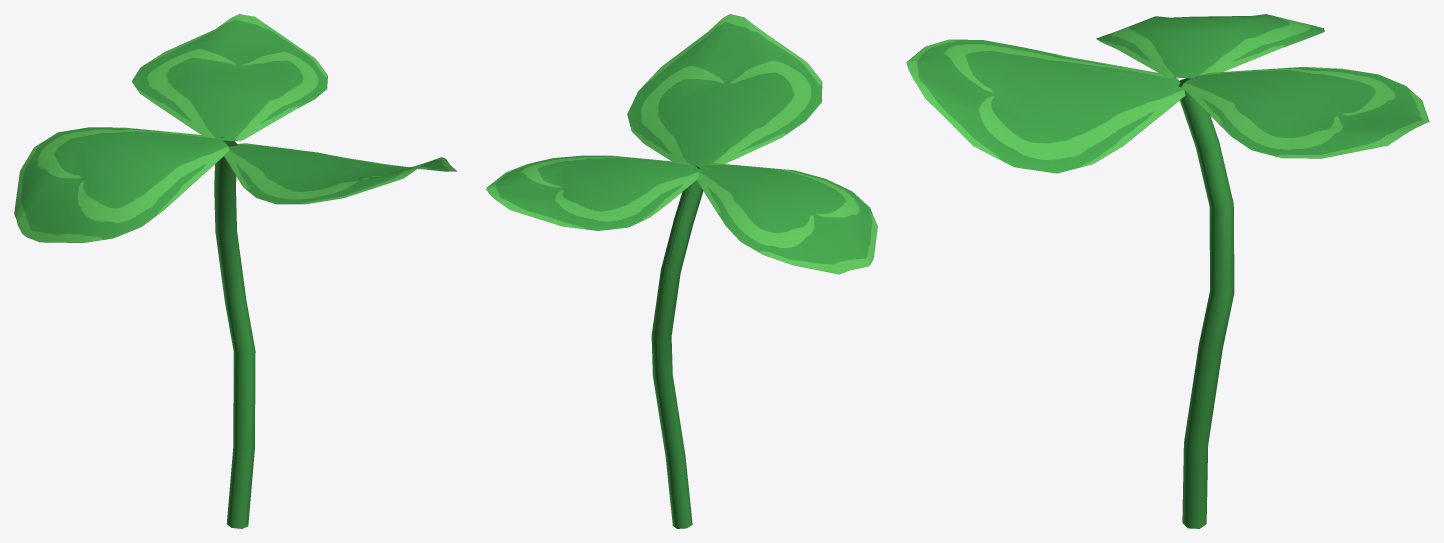
The model's file is SM_Trefle3.fbx.
3 views of the same model, side by side, from view 1: azimuth 30°, elevation 25°; view 2: azimuth 150°, elevation 25°; view 3: azimuth 270°, elevation 25° (orthographic). The views are drawn at different scales.
Parts seen in each view (by area): view 1: Trefle_Tige_00; view 2: Trefle_Tige_00; view 3: Trefle_Tige_00.
Part boxes in pixels (x1=…): Trefle_Tige_00: x1=14, y1=14, x2=457, y2=528; Trefle_Tige_00: x1=486, y1=14, x2=877, y2=528; Trefle_Tige_00: x1=906, y1=14, x2=1429, y2=528.
Size of the model in its own units: 9.13 by 10.75 by 11.27.
1 material, 1 textured.
